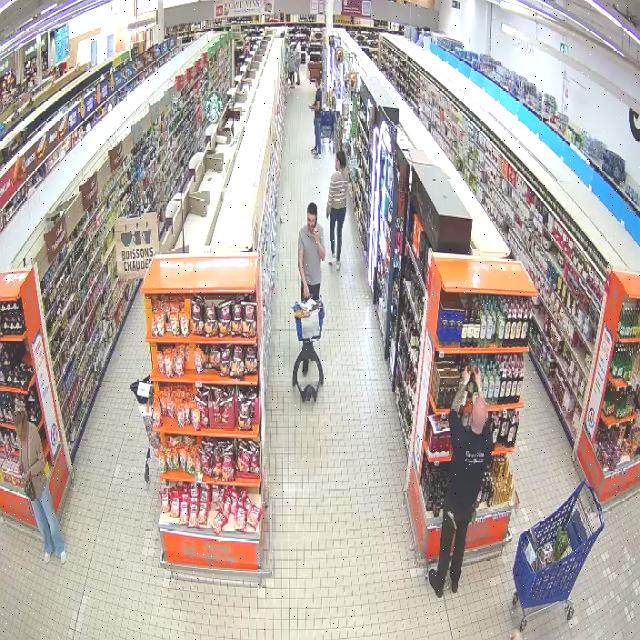article: (459, 384, 469, 413), (473, 382, 478, 405)
bags: (25, 478, 36, 500)
hands: (474, 366, 481, 390), (461, 366, 469, 386), (311, 228, 319, 244), (303, 283, 309, 299), (25, 470, 31, 481)
person: (428, 366, 492, 597), (15, 404, 65, 562), (299, 202, 325, 300), (326, 151, 347, 269)
